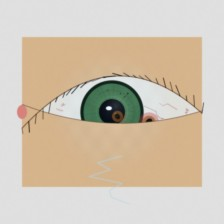foreign_body_visible: (128, 105, 170, 140)
